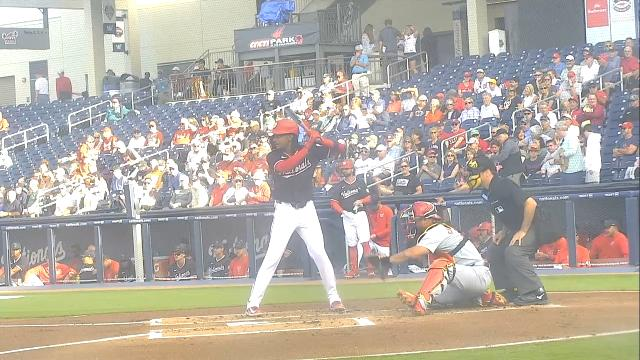bat: (285, 106, 307, 130)
